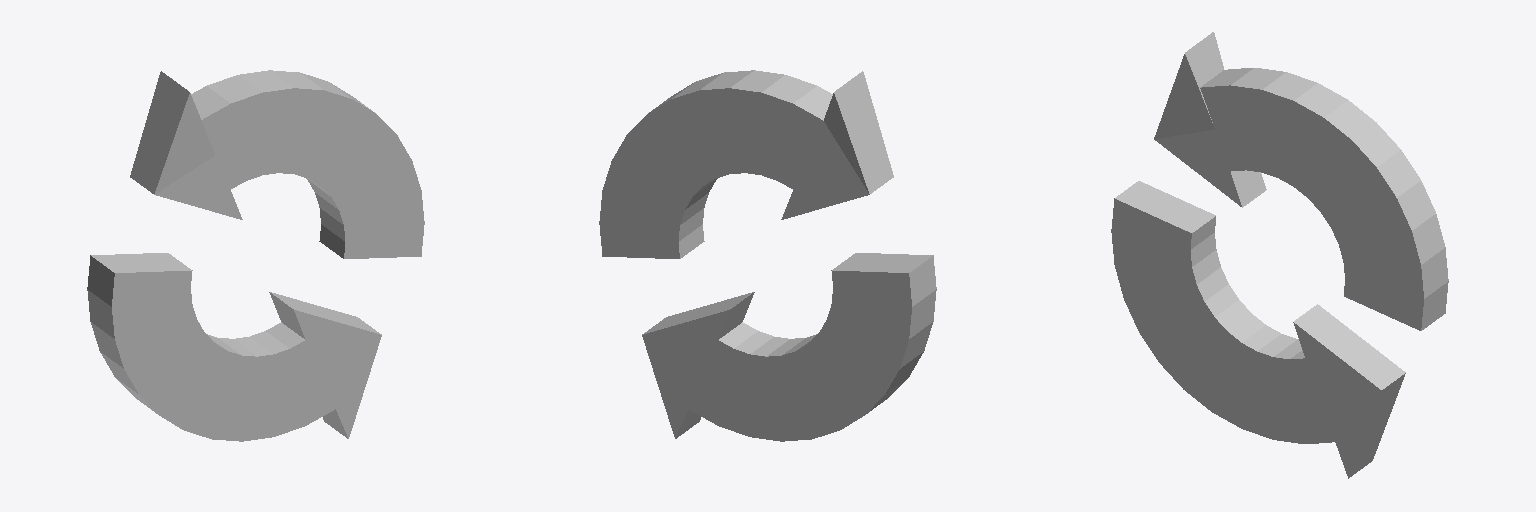
The model's file is Arrow_63.obj.
The picture shows the model from 3 angles: view 1: azimuth 30°, elevation 25°; view 2: azimuth 150°, elevation 25°; view 3: azimuth 330°, elevation 25°; orthographic projection.
Parts seen in each view (by area): view 1: Arrow_63; view 2: Arrow_63; view 3: Arrow_63.
Boxes of the visible parts, box(x1,y1,x2,y2) form: Arrow_63: box(87, 70, 424, 441); Arrow_63: box(599, 70, 936, 441); Arrow_63: box(1111, 32, 1448, 478).
Size of the model in its own units: 2.89 by 3.43 by 0.469.